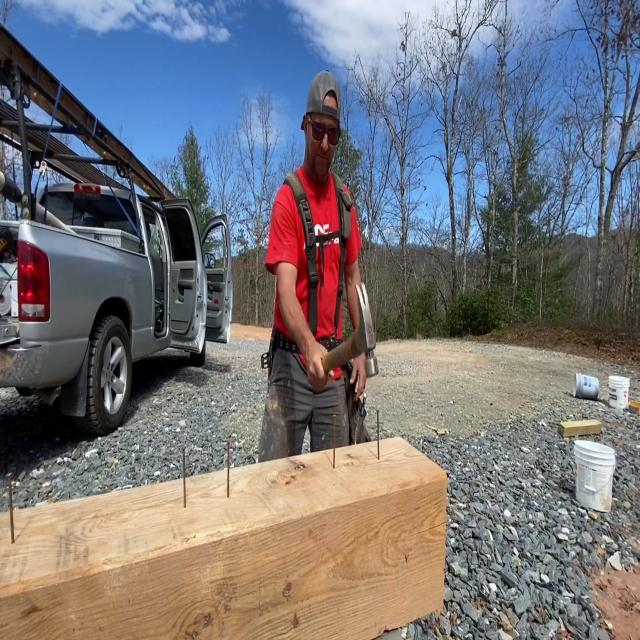hammer: (321, 283, 379, 377)
